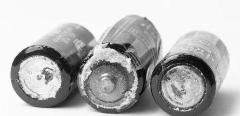electronic: (8, 18, 94, 114), (154, 13, 224, 116), (86, 11, 150, 115)
